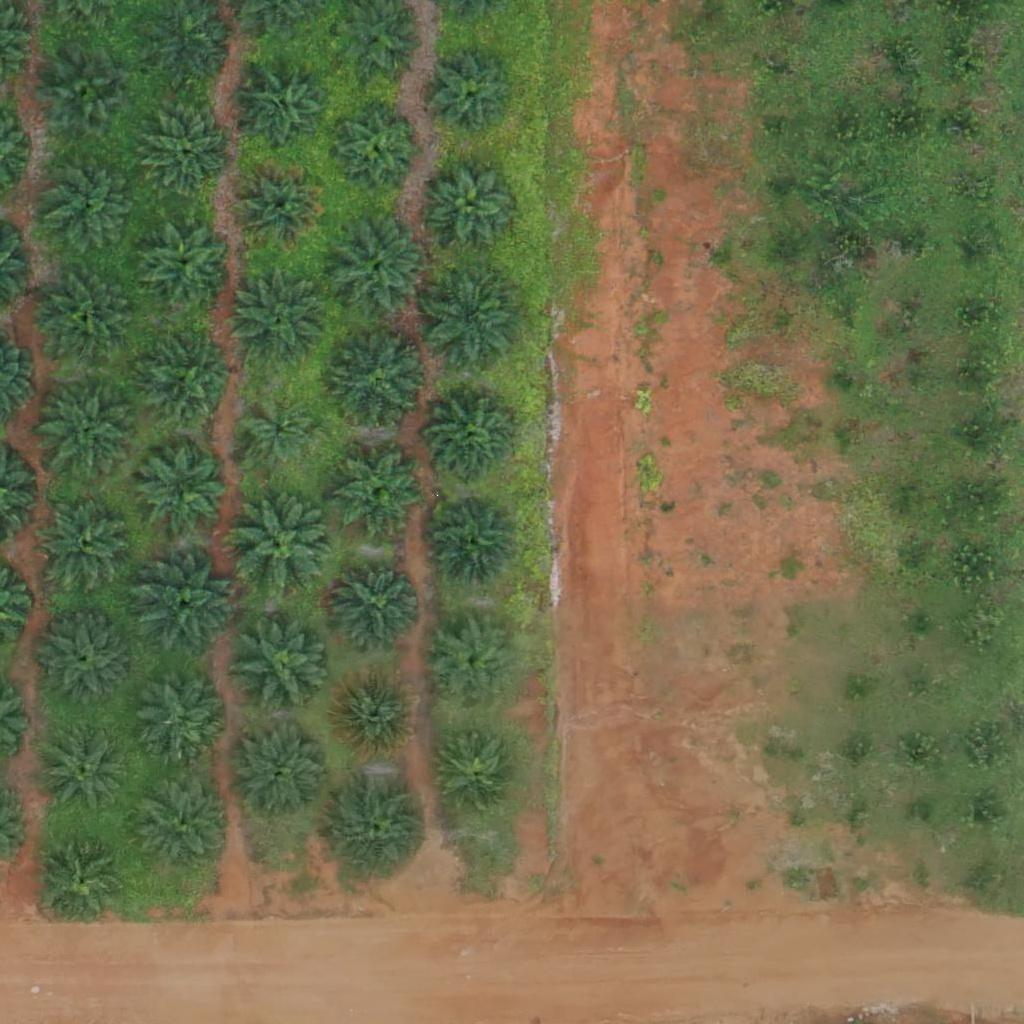Kelapa_Sawit: (235, 496, 335, 597), (135, 216, 235, 317), (136, 332, 236, 433), (134, 556, 234, 657), (41, 152, 141, 253), (38, 269, 138, 370), (37, 378, 137, 479), (36, 495, 136, 596), (34, 611, 134, 712), (131, 769, 231, 870), (233, 617, 333, 718), (231, 721, 331, 822), (330, 775, 430, 876), (420, 266, 520, 366), (325, 218, 425, 318), (327, 332, 427, 432), (230, 270, 330, 370), (44, 52, 132, 140), (429, 51, 517, 139), (430, 161, 518, 249), (337, 448, 425, 536), (331, 558, 419, 646), (144, 108, 232, 196), (42, 725, 130, 813), (39, 835, 127, 923), (331, 669, 419, 757), (436, 732, 524, 820), (240, 65, 327, 153), (430, 398, 517, 486), (431, 495, 518, 583), (430, 621, 517, 709), (332, 104, 419, 192), (236, 162, 323, 250), (139, 444, 226, 532), (146, 672, 233, 760), (242, 398, 317, 474)
